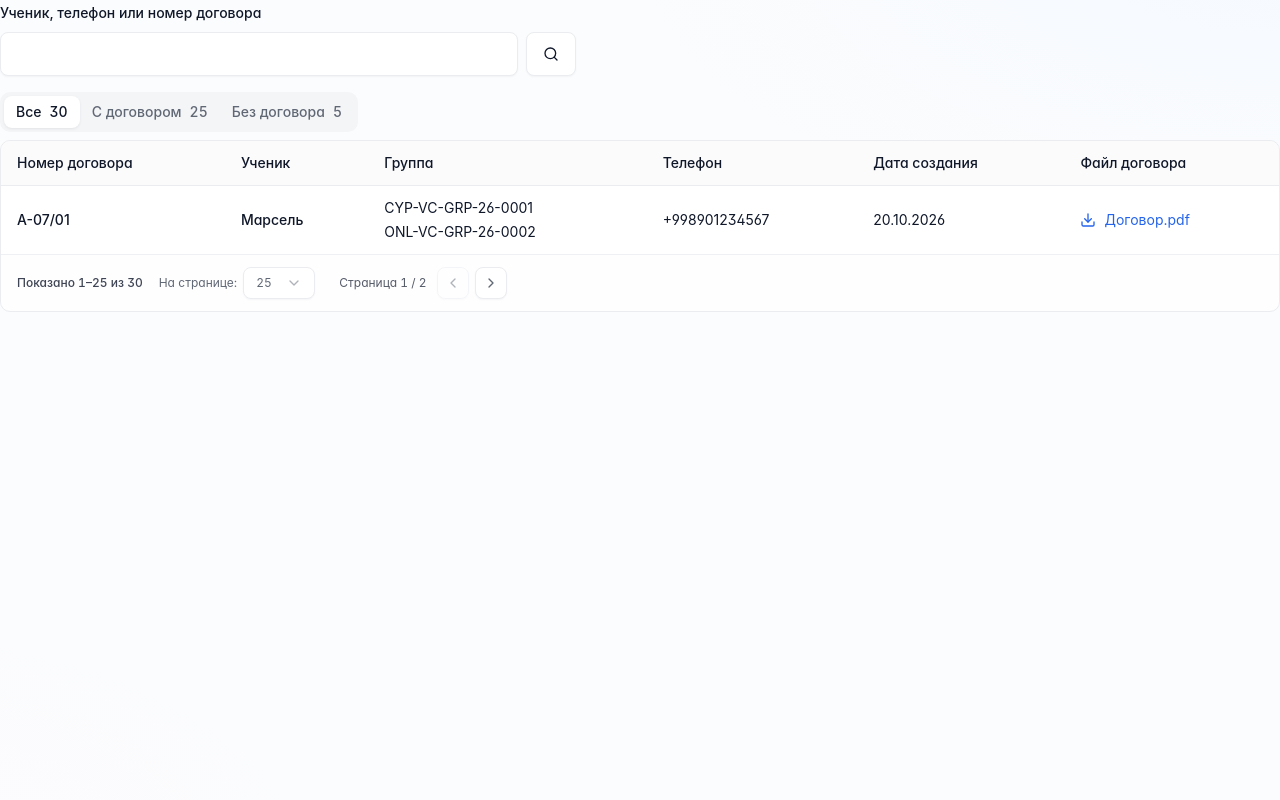
Scenario: student contracts directory › opens the student from the phone cell
Expected: the text "А-07/01" is shown, x1=1 y1=186 x2=225 y2=254
Step 1. Click the text "+998901234567" → point(752, 220), box x1=647 y1=186 x2=857 y2=254
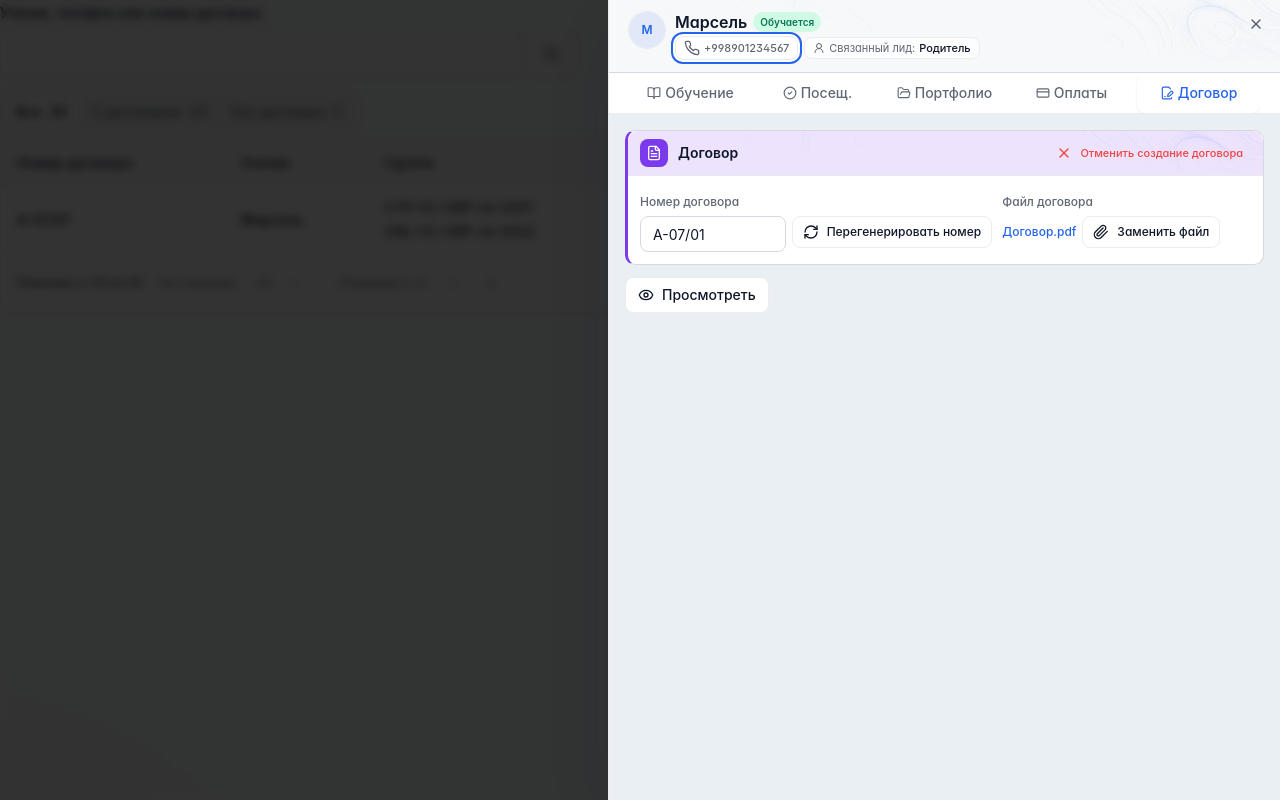
Result: the dialog "Марсель" is shown at x1=608 y1=0 x2=1279 y2=799
